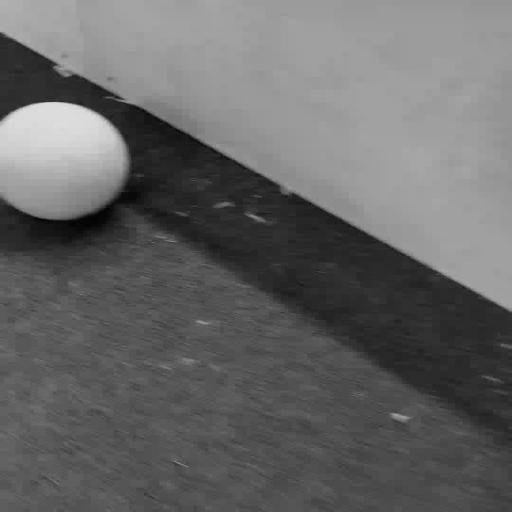fuel: (0, 102, 129, 220)
